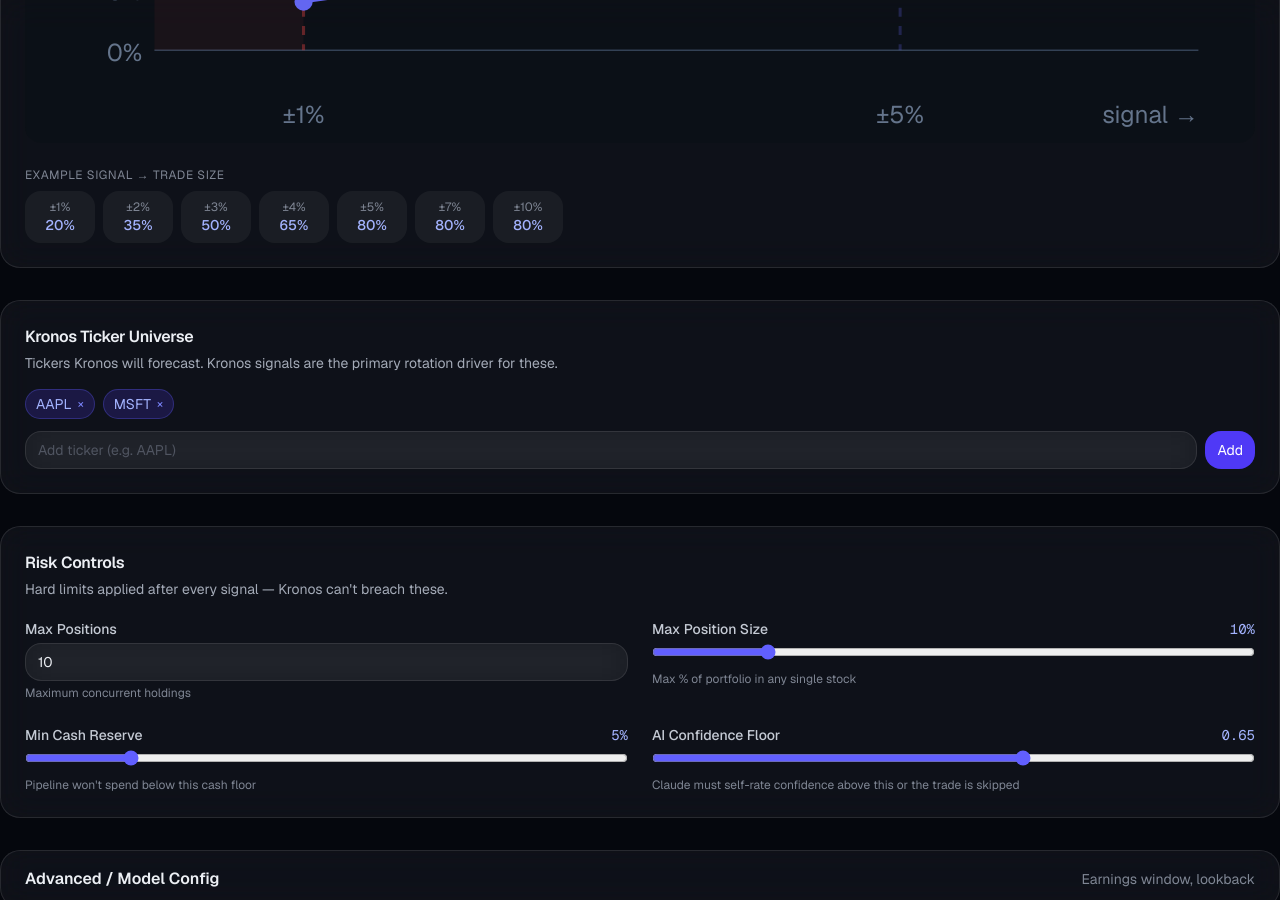
Scenario: KronosTunePanel › adding a ticker via Add button appends to list
The width and height of the screenshot is (1280, 900).
(page scrolled)
Type "GOOG" into the field with placeholder "Add ticker (e.g. AAPL)". click: (611, 450)
box: [25, 431, 1197, 469]
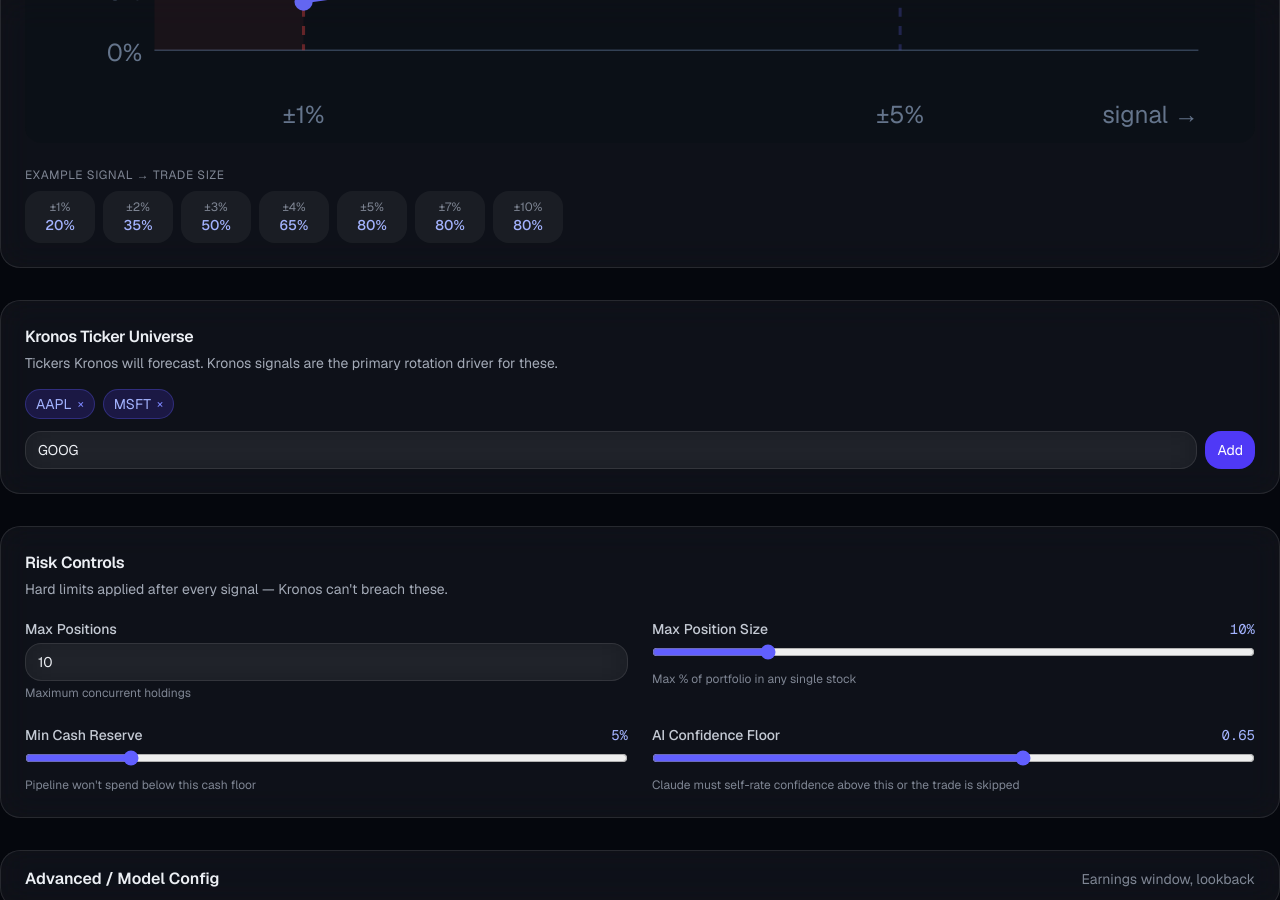
Click the button "Add". click: (1230, 450)
box: [1205, 431, 1255, 469]
(page scrolled)
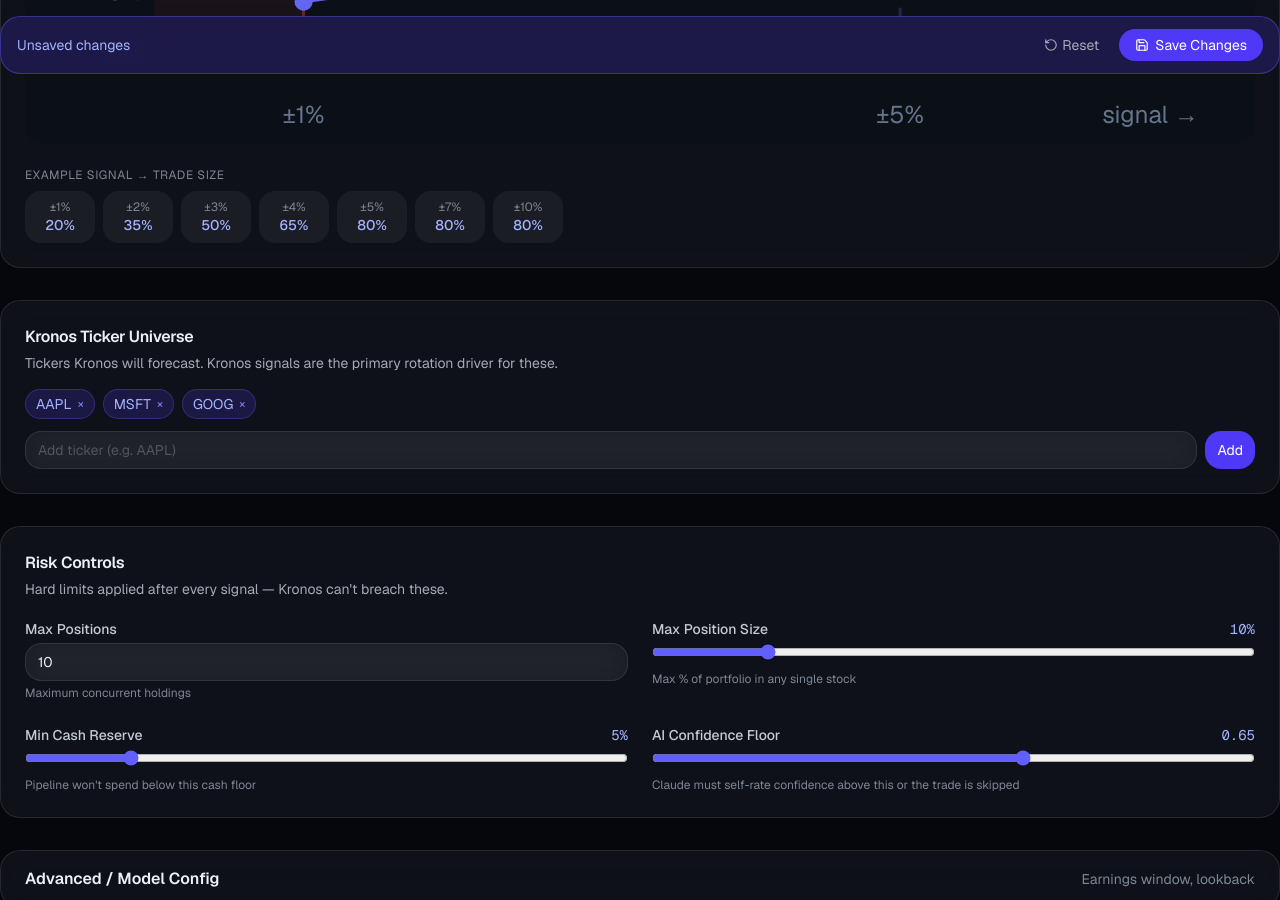
Now the text "GOOG" is shown, box [193, 395, 233, 413]
